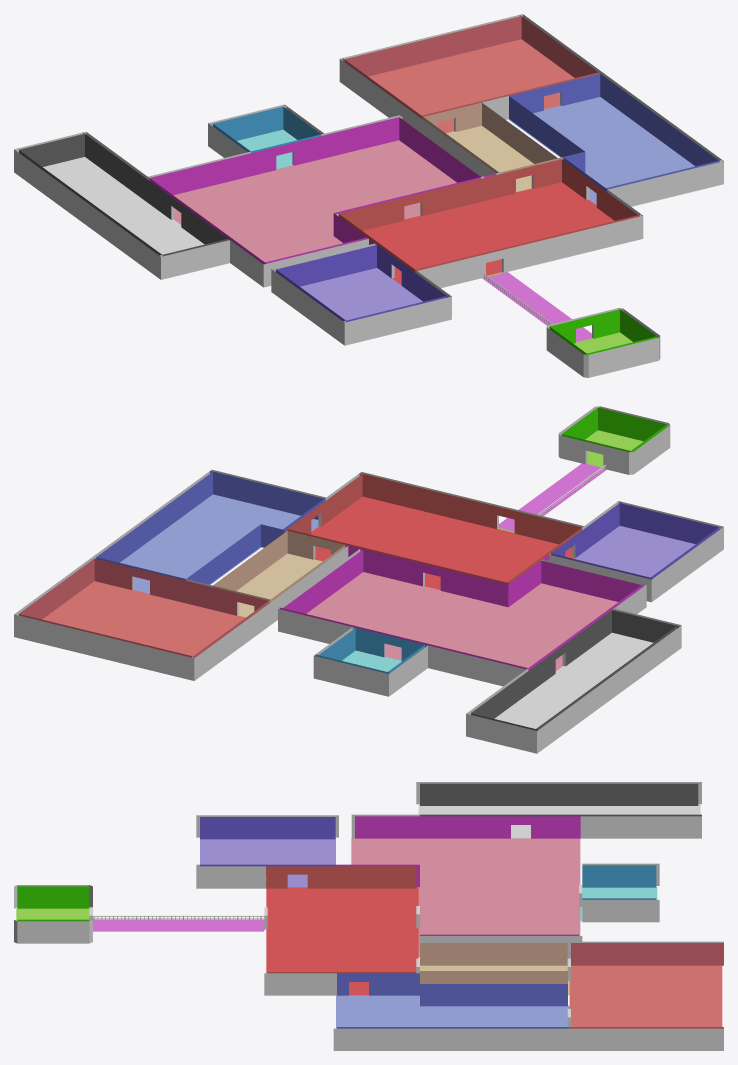
Rendered from level.fbx.
The picture shows the model from 3 angles, top to bottom: view 1: azimuth 30°, elevation 25°; view 2: azimuth 150°, elevation 25°; view 3: azimuth 270°, elevation 25°; orthographic projection. The views are drawn at different scales.
Visible parts, largest first — view 1: Plane, Cube.007, Cube.004, Cube.001, Cube.048, Cube.019, Cube.008, Cube.022, Cube.034, Cube.023, Cube.005, Cube.018 (+12 smaller); view 2: Plane, Cube.007, Cube.004, Cube.001, Cube.048, Cube.019, Cube.022, Cube.008, Cube.034, Cube.005, Cube.023, Cube.018 (+12 smaller); view 3: Plane, Cube.019, Cube.008, Cube.018, Cube.034, Cube.023, Cube.006, Cube.048, Cube.007, Cube.015, Cube.041, Cube.042 (+1 smaller).
Boxes of the visible parts, x1,y1,x2,y2 form: Plane: (43,39,694,353); Cube.007: (333,157,641,237); Cube.004: (147,115,401,195); Cube.001: (415,215,643,287); Cube.048: (546,308,660,377); Cube.019: (520,14,722,166); Cube.008: (83,132,266,287); Cube.022: (342,15,521,76); Cube.034: (15,150,162,278); Cube.023: (482,96,585,172); Cube.005: (422,72,600,131); Cube.018: (339,58,499,176); Plane: (42,430,695,728); Cube.007: (283,473,509,607); Cube.004: (278,607,528,686); Cube.001: (359,472,584,547); Cube.048: (558,406,670,474); Cube.019: (14,471,212,637); Cube.022: (17,614,192,680); Cube.008: (466,584,646,736); Cube.034: (536,626,679,751); Cube.005: (94,557,269,615); Cube.023: (186,524,287,590); Cube.018: (191,545,348,680); Plane: (16,804,722,1028); Cube.019: (337,1027,723,1050); Cube.008: (351,814,701,838); Cube.018: (420,941,723,965); Cube.034: (420,782,698,805); Cube.023: (420,971,567,1006); Cube.006: (196,864,416,888); Cube.048: (14,885,92,943); Cube.007: (267,864,419,995); Cube.015: (200,815,335,839); Cube.041: (582,863,656,887); Cube.042: (582,898,656,922).
Size of the model in its own units: 33334 by 1436 by 40578.
